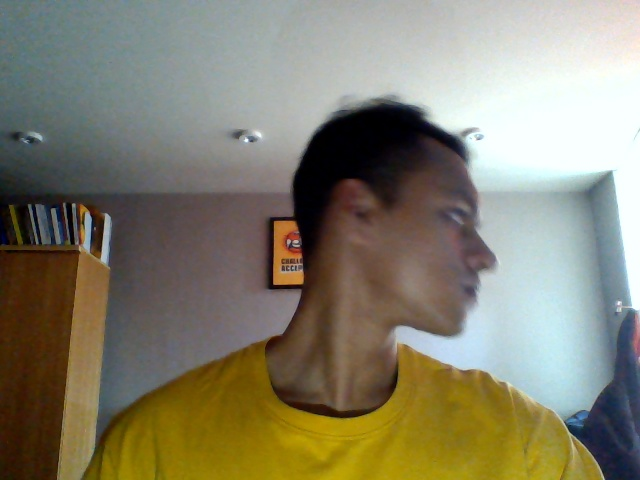no_mask: (351, 234, 500, 343)
